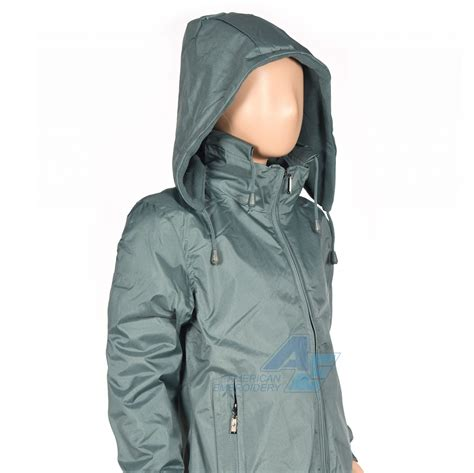nylon: (104, 13, 357, 473)
